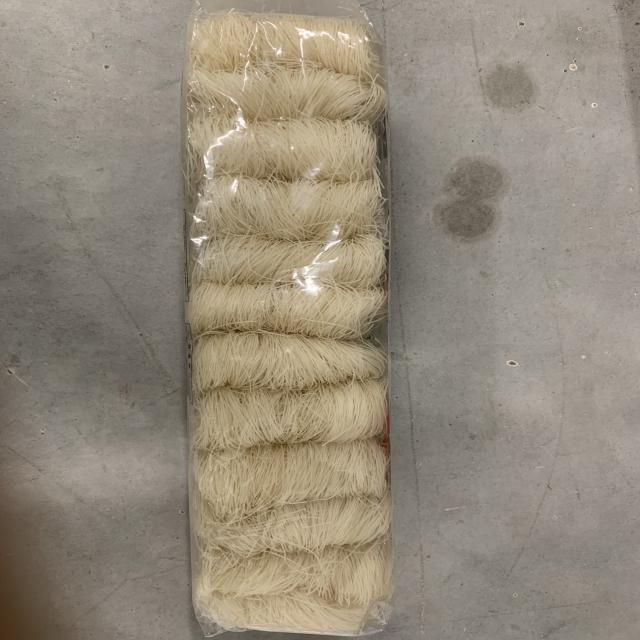object_name: (190, 10, 381, 632)
